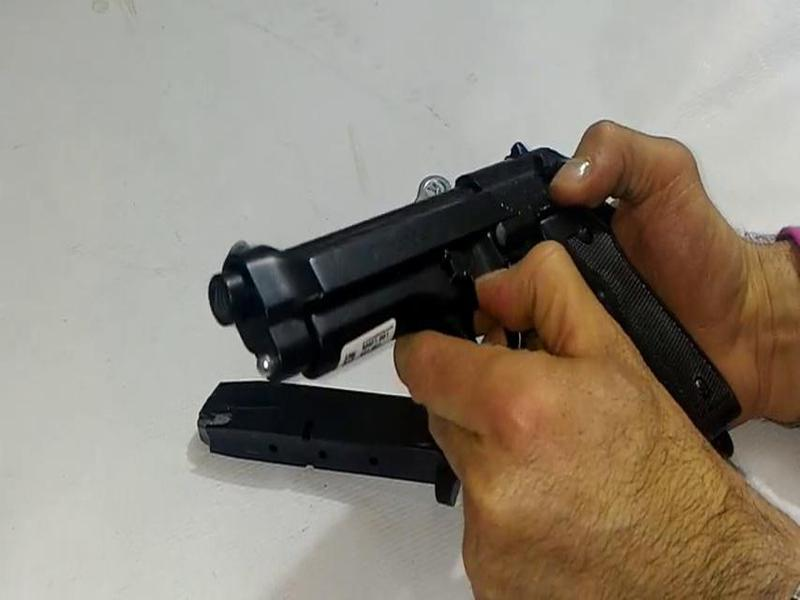Pistola: (167, 126, 767, 464)
